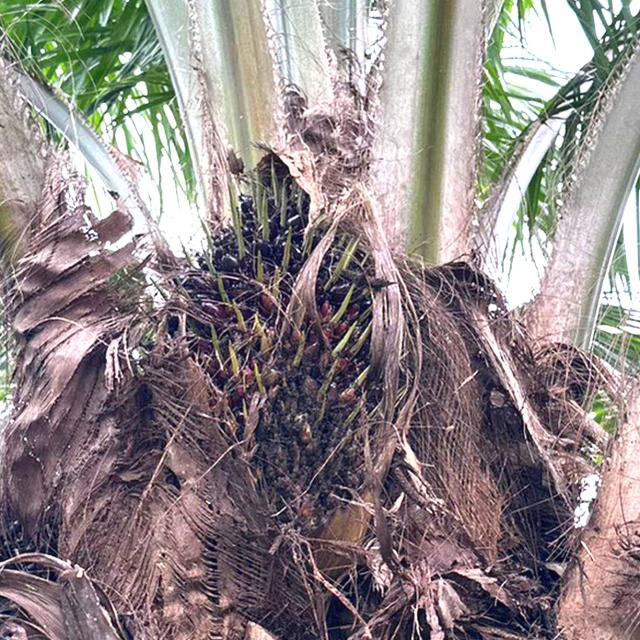unripe: (146, 164, 442, 548)
